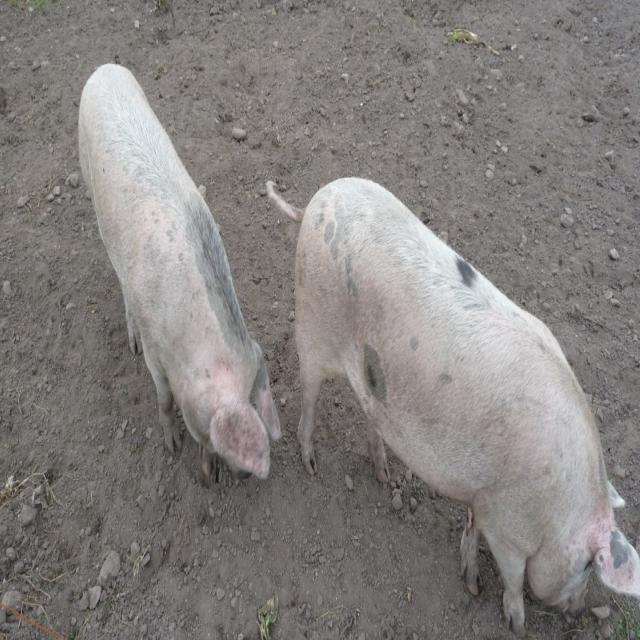pig: (293, 178, 640, 636), (77, 64, 281, 481)
